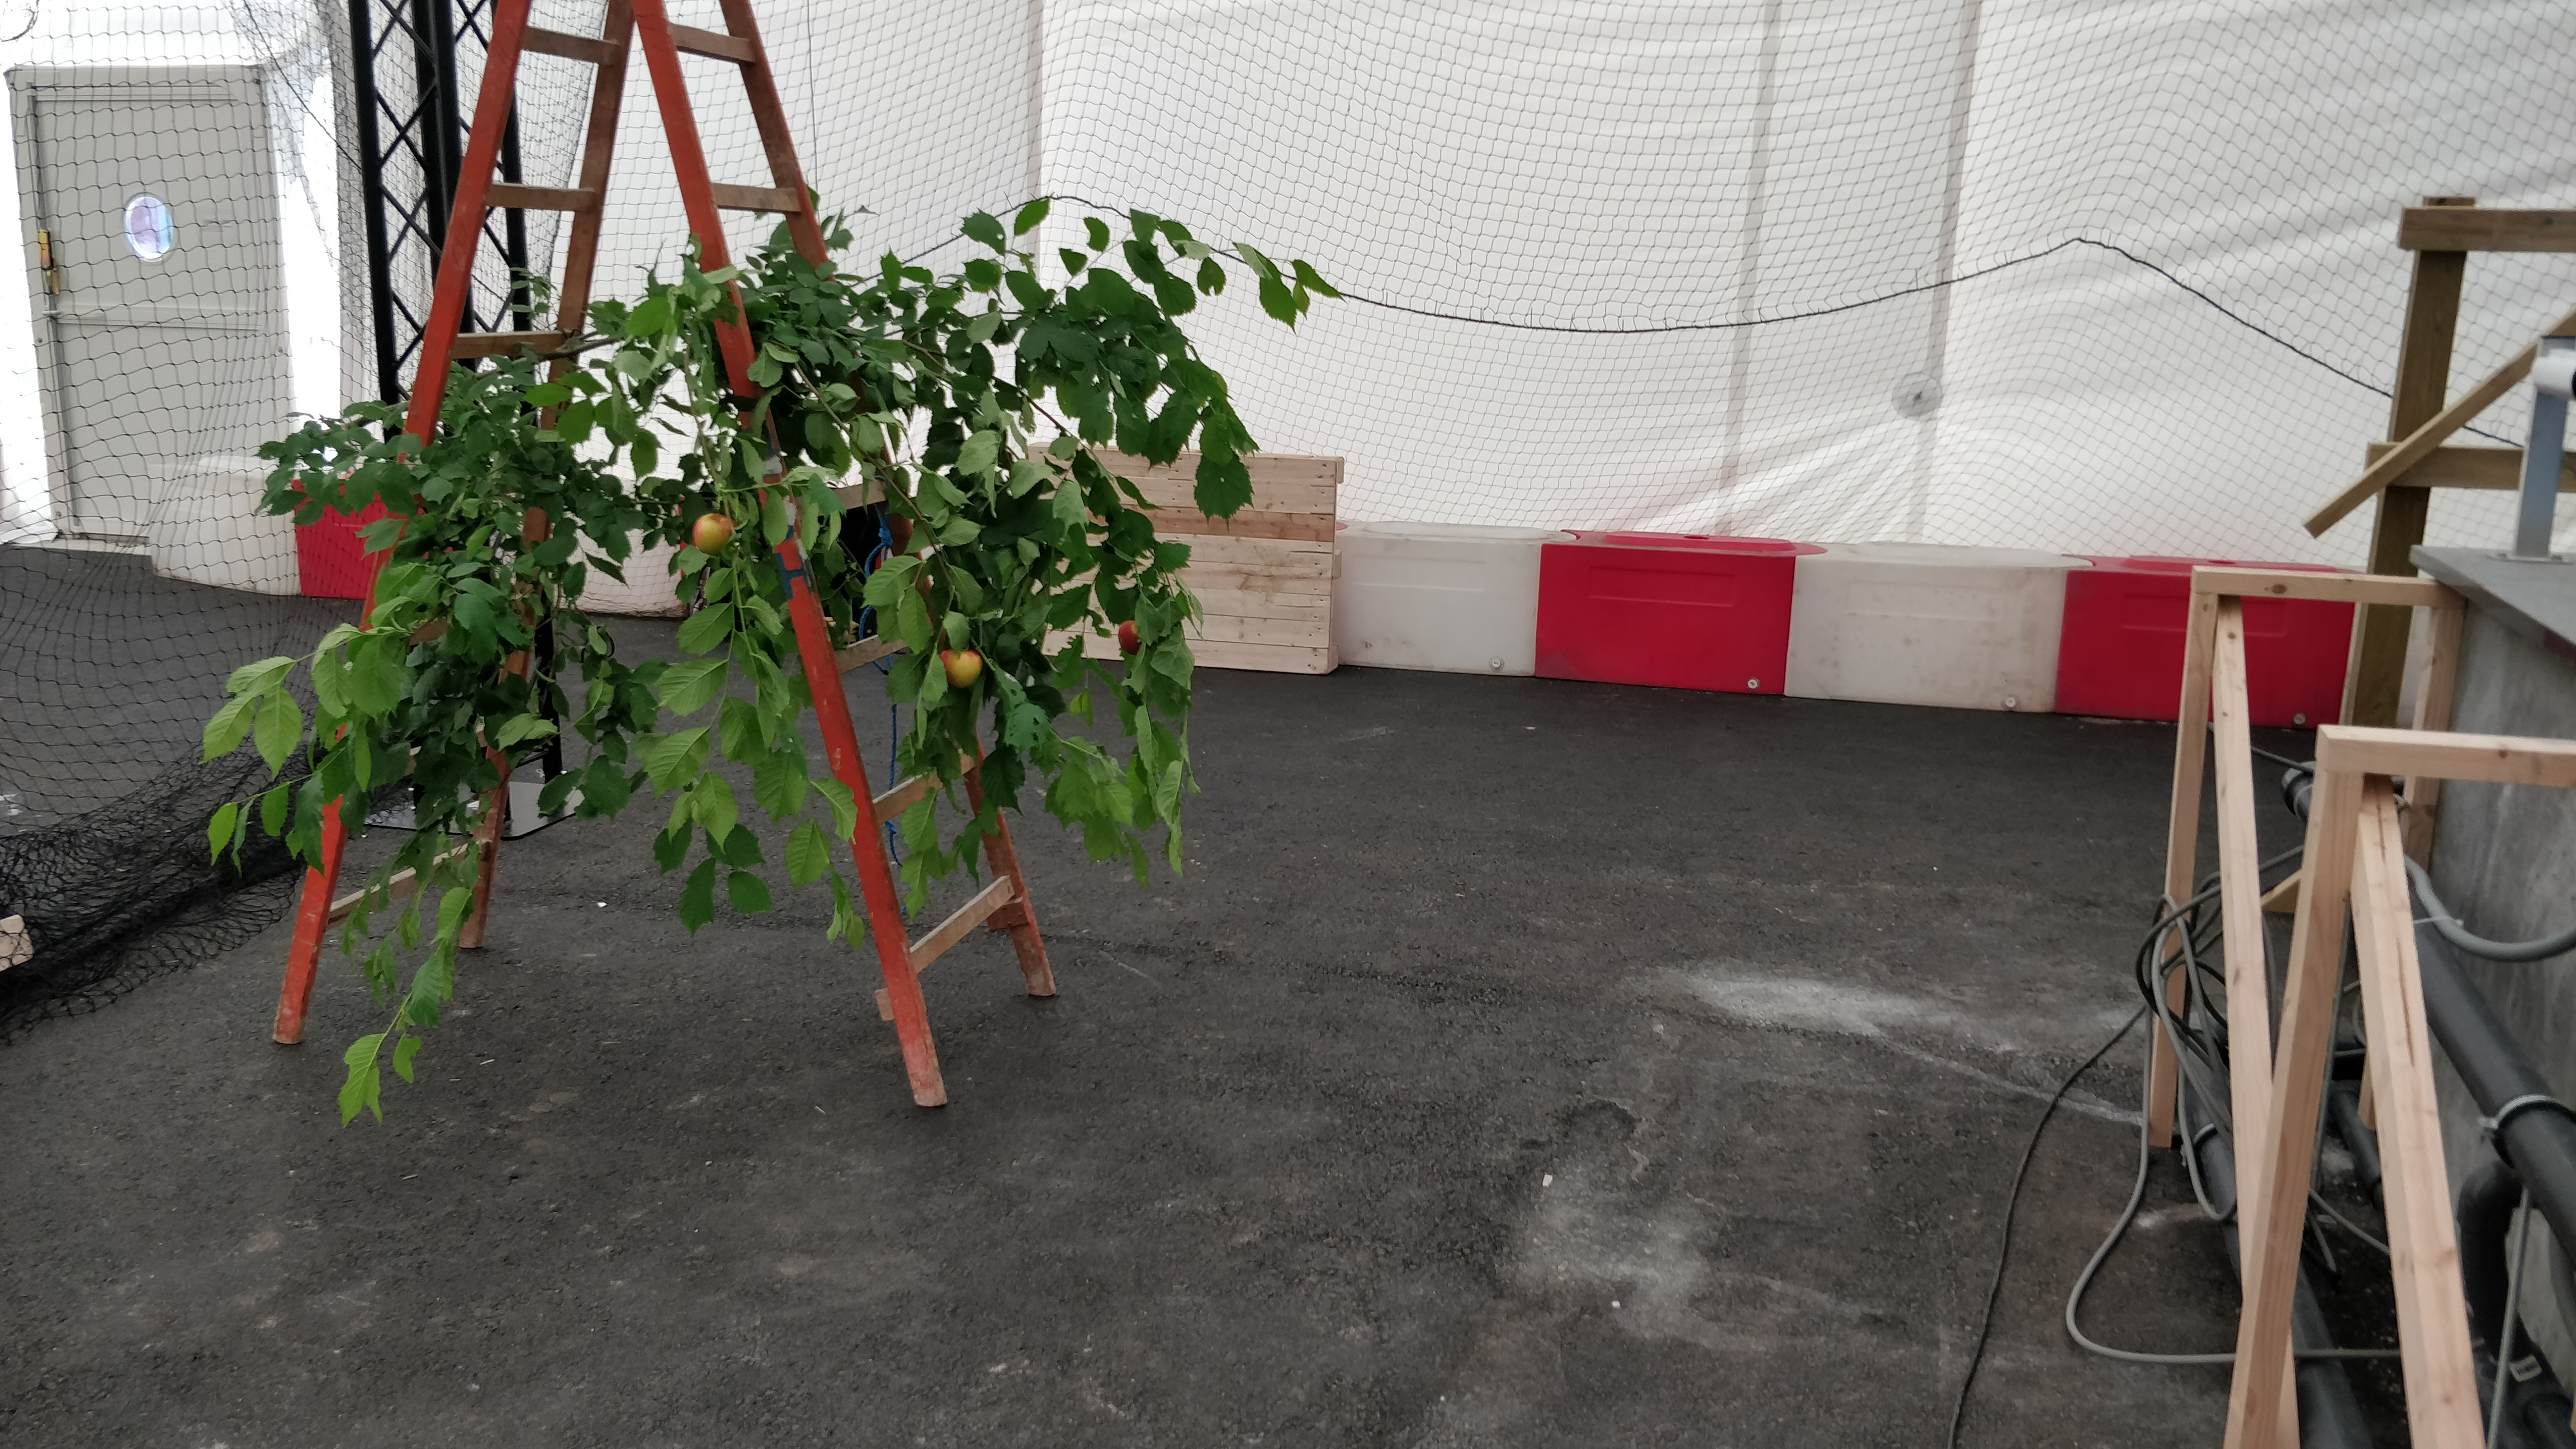apple: (694, 513, 736, 556), (938, 649, 982, 688), (1118, 621, 1143, 655)
